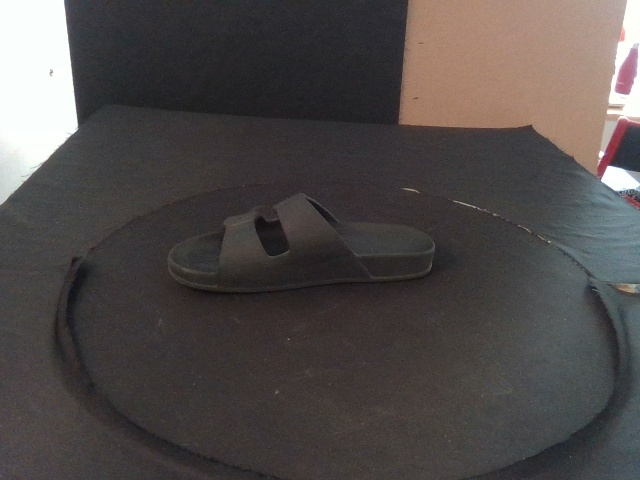shoe: (166, 192, 437, 294)
